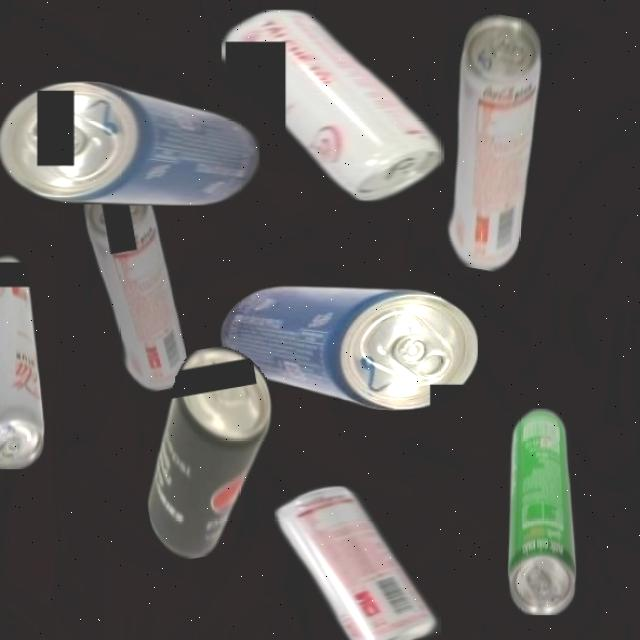debris: (222, 9, 444, 203), (122, 340, 296, 564), (425, 9, 557, 274), (218, 285, 478, 411), (0, 79, 259, 205), (275, 484, 441, 640), (79, 172, 191, 398), (506, 408, 576, 615), (0, 249, 44, 469)
